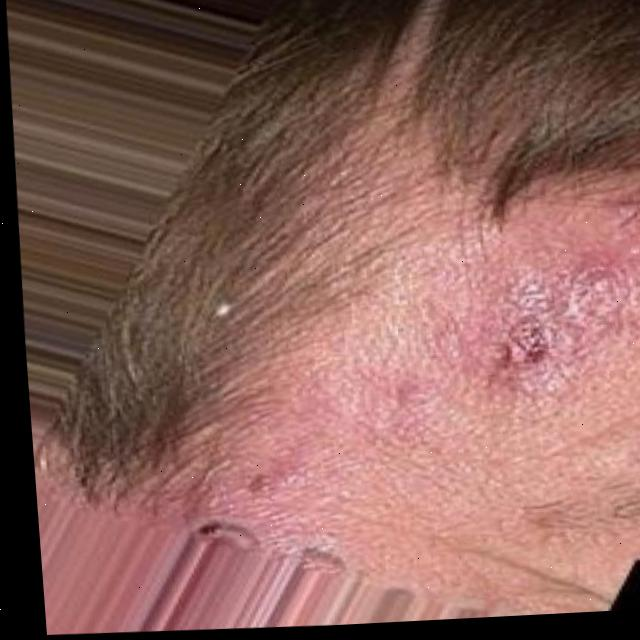Rosacea: (457, 285, 627, 374)
